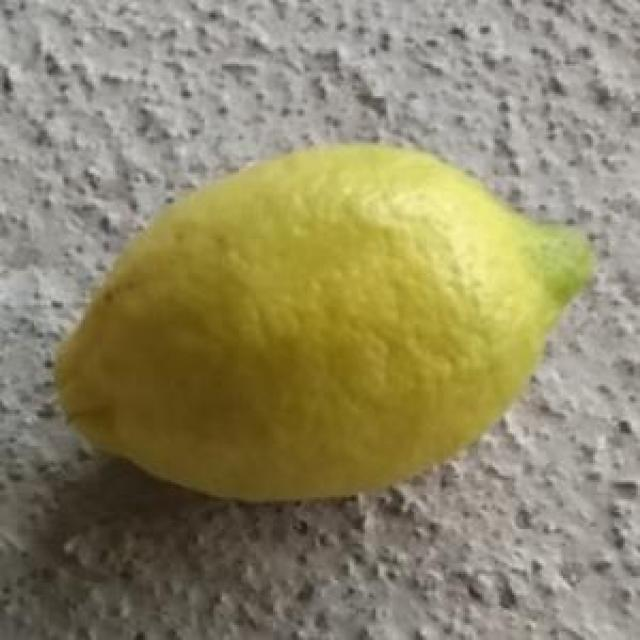lemon: (57, 138, 596, 516)
